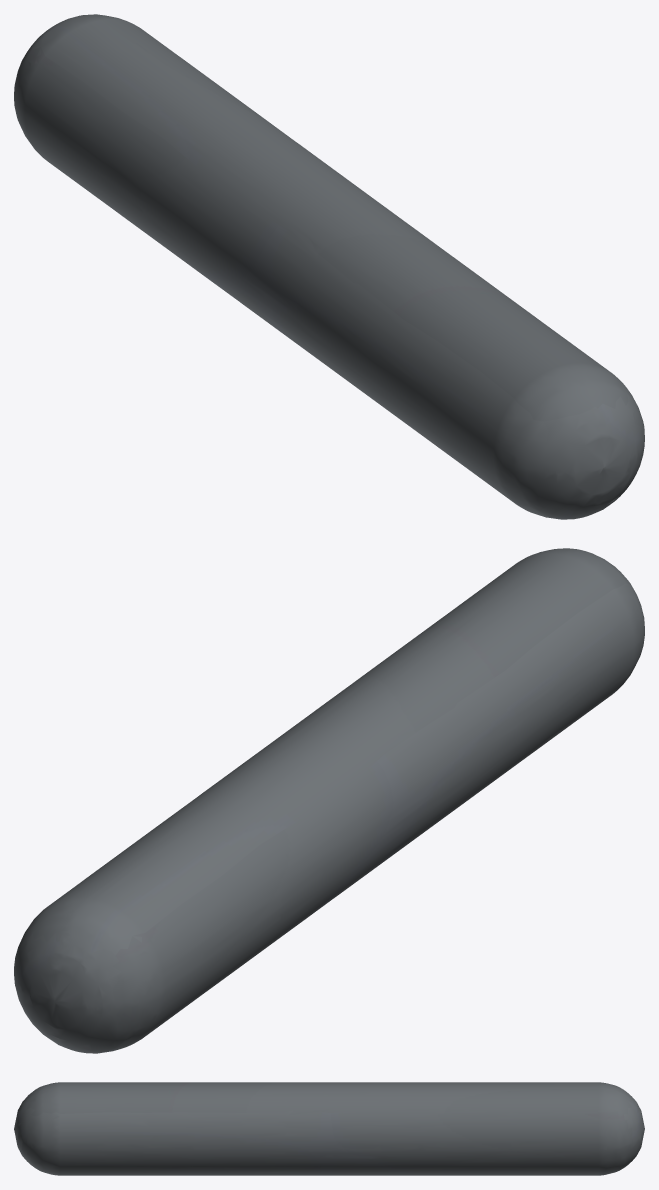
The model's file is damocles.glb.
The picture shows the model from 3 angles, top to bottom: view 1: azimuth 30°, elevation 25°; view 2: azimuth 150°, elevation 25°; view 3: azimuth 270°, elevation 25°; orthographic projection. The views are drawn at different scales.
Parts seen in each view (by area): view 1: airframe; view 2: airframe; view 3: airframe.
Boxes of the visible parts, x1,y1,x2,y2 form: airframe: [14, 14, 644, 519]; airframe: [14, 548, 644, 1053]; airframe: [14, 1082, 644, 1175].
Size of the model in its own units: 0.3701 by 0.3701 by 2.5.
Materials: 1 (1 with a texture image).
